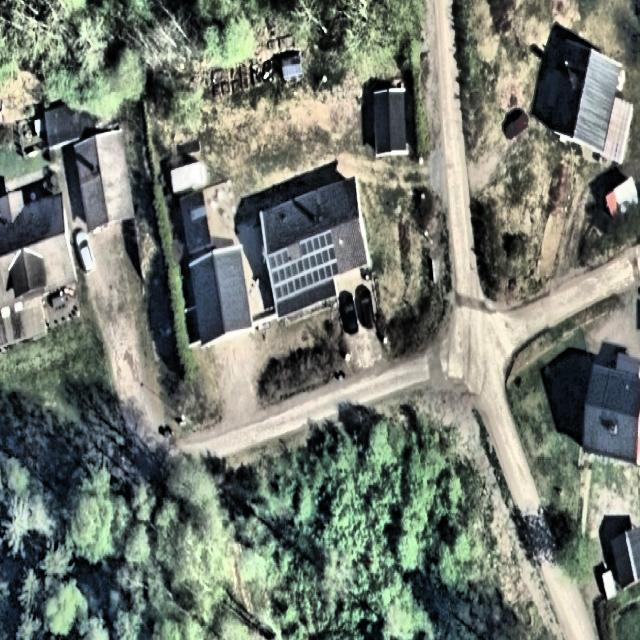roof_pv: (264, 232, 341, 301)
